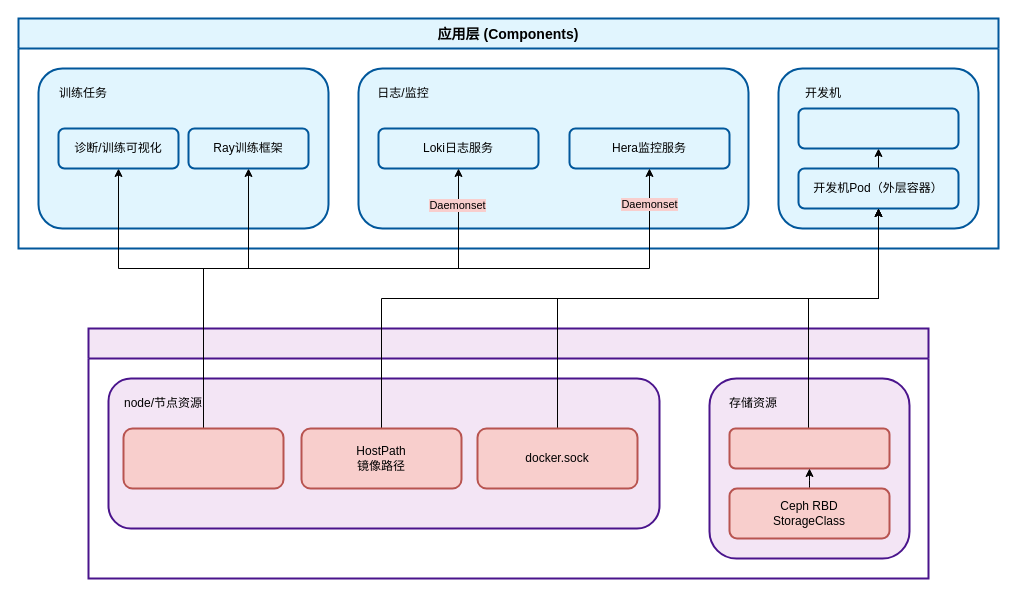
Image size: 1016x596. Some labels were removed from this diagram. The box of each missing label's shape, as (x1, y1, x2, y2) in pixels:
HostPath 日志路径: (122, 427, 284, 489)
K8s资源层 (Kubernetes Resources): (87, 327, 929, 579)
PVC: (728, 427, 890, 469)
用户Runc（内层容器）: (797, 107, 959, 149)
